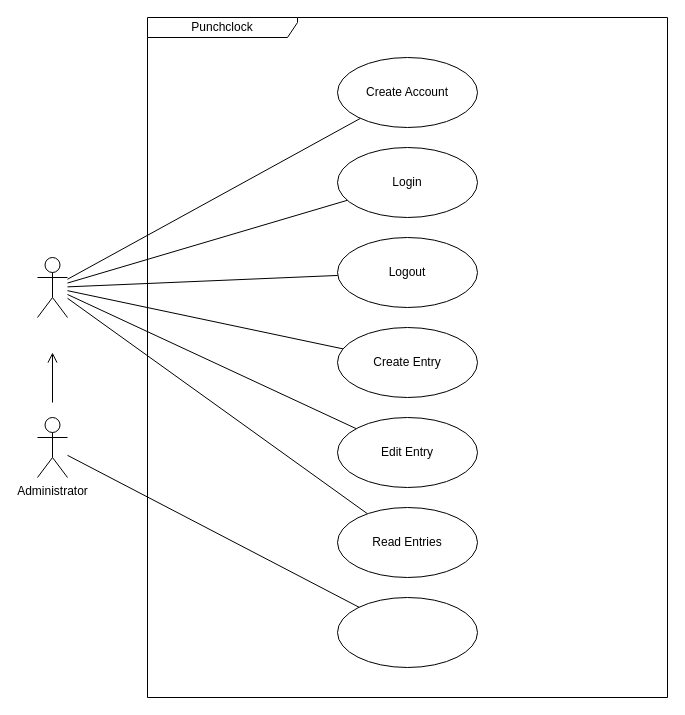
This 685x715 diagram has some shape labels left out. Here are the shapes that lost their labels. From the top down, the centre of each, then its label:
the point at 52,287: User
the point at 407,632: Delete Entry
